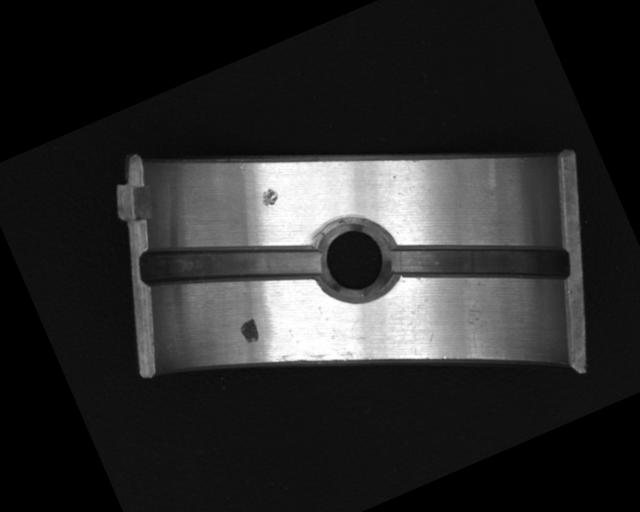blot: (236, 315, 263, 346)
bruise: (256, 184, 281, 209)
gap: (133, 188, 327, 341), (382, 186, 575, 339)
hole: (304, 207, 401, 307)
